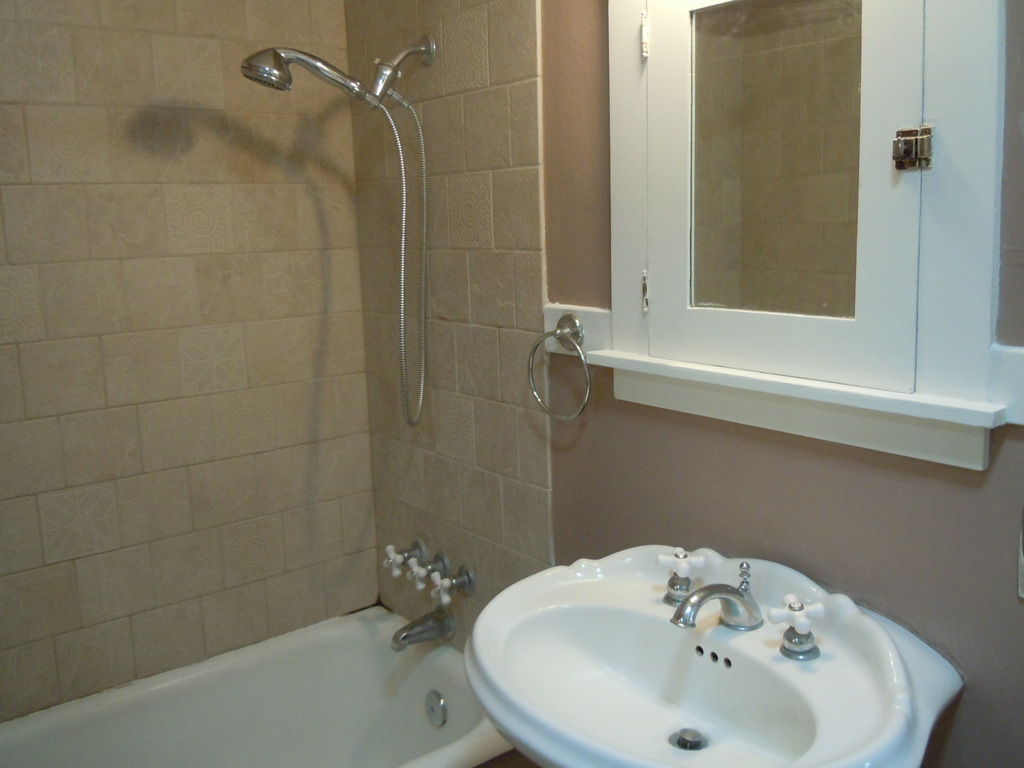tap: (369, 539, 486, 664), (672, 563, 768, 631)
